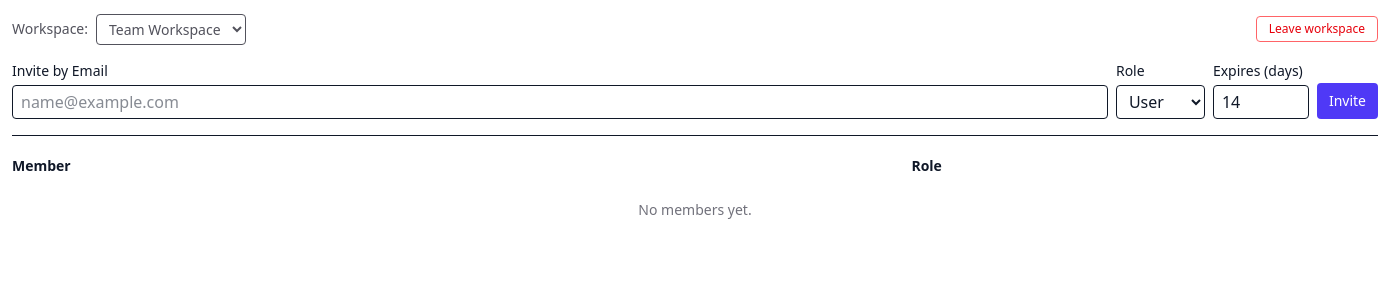
Test case: MembersTab workspace actions › leaves a workspace and redirects to the solo workspace
The image size is (1390, 290).
Step 1. Click the button "Leave workspace" → point(1317, 28), box x1=1256 y1=16 x2=1378 y2=42
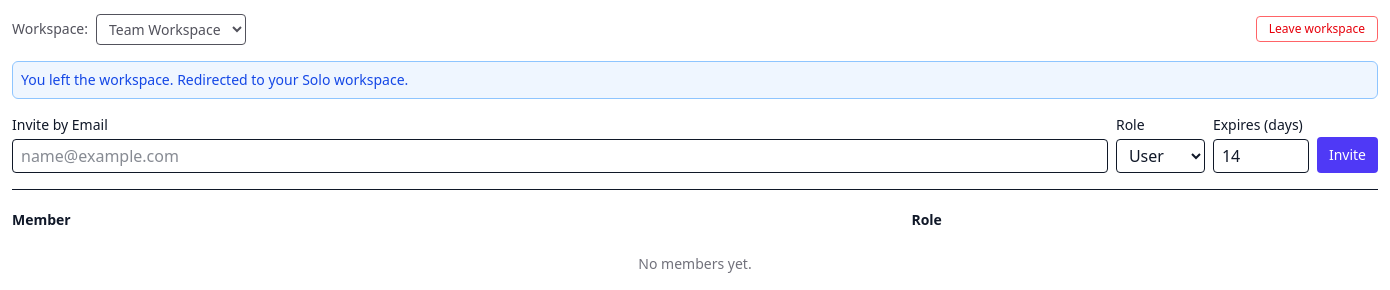
Expected: the text "You left the workspace. Redirected to your Solo workspace." is shown, x1=12 y1=61 x2=1378 y2=99
